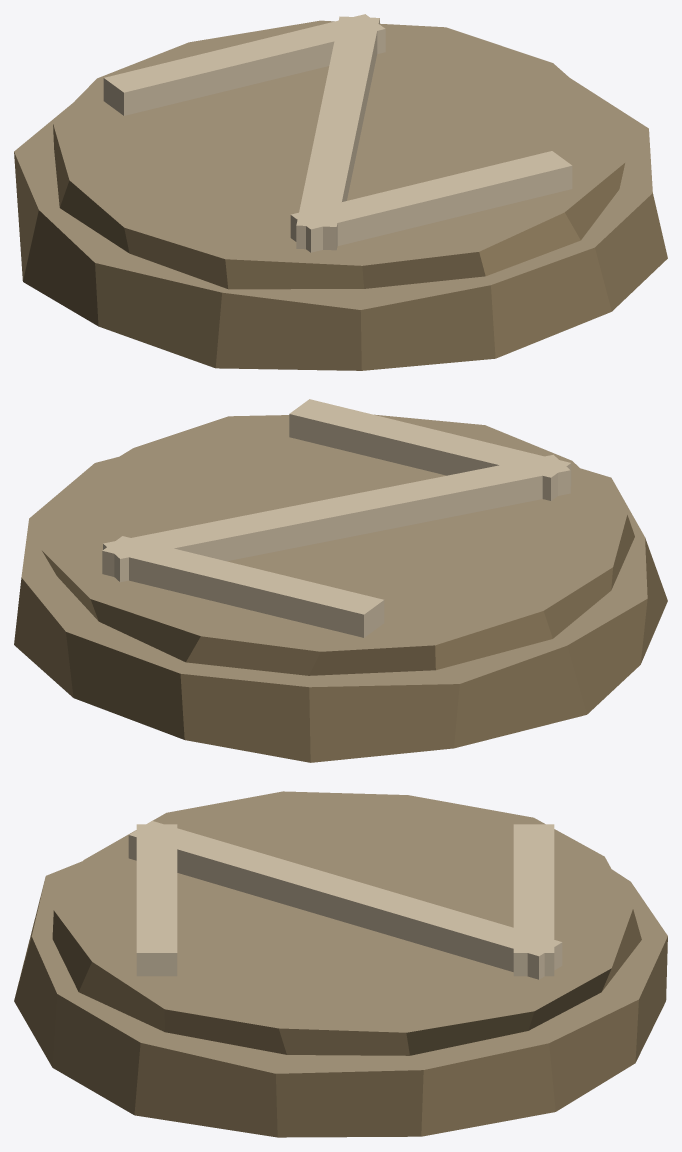
The model's file is Spellstone_Charged.glb.
3 views of the same model, one above another, from view 1: azimuth 30°, elevation 25°; view 2: azimuth 150°, elevation 25°; view 3: azimuth 270°, elevation 25° (orthographic).
Parts seen in each view (by area): view 1: Spellstone_Charged; view 2: Spellstone_Charged; view 3: Spellstone_Charged.
Part boxes in pixels (box(x1,y1,x2,y2)): Spellstone_Charged: box(14, 14, 667, 370); Spellstone_Charged: box(14, 399, 667, 762); Spellstone_Charged: box(14, 791, 667, 1137).
Bounding box in the file's own units: 0.829 × 0.163 × 0.8328.
